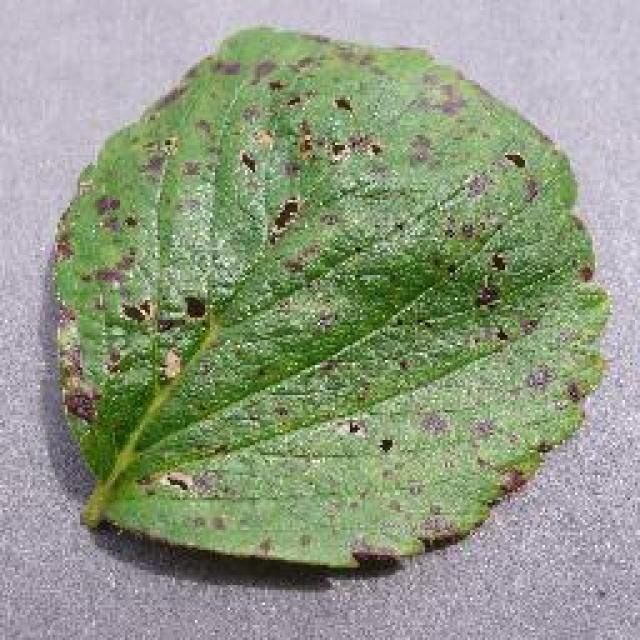Strawberry leaf scorch: (132, 91, 442, 416)
